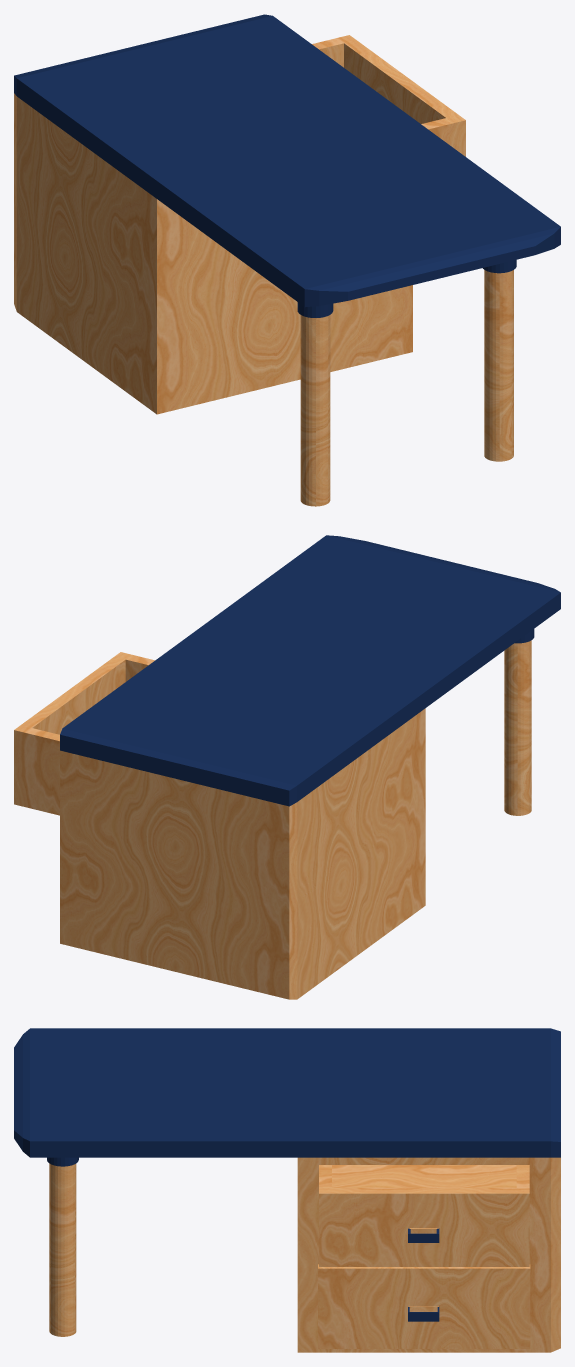
The model's file is mesa1.fbx.
3 renders of one model, top to bottom at view 1: azimuth 30°, elevation 25°; view 2: azimuth 150°, elevation 25°; view 3: azimuth 270°, elevation 25°, orthographic. The views are drawn at different scales.
Visible parts, largest first — view 1: table1:Mesh; view 2: table1:Mesh; view 3: table1:Mesh.
Part boxes in pixels (bbox=[...]): table1:Mesh: bbox=[14, 14, 560, 506]; table1:Mesh: bbox=[14, 535, 560, 999]; table1:Mesh: bbox=[14, 1028, 560, 1352].
Size of the model in its own units: 3.88 by 2.59 by 6.09.
2 materials, 1 textured.
